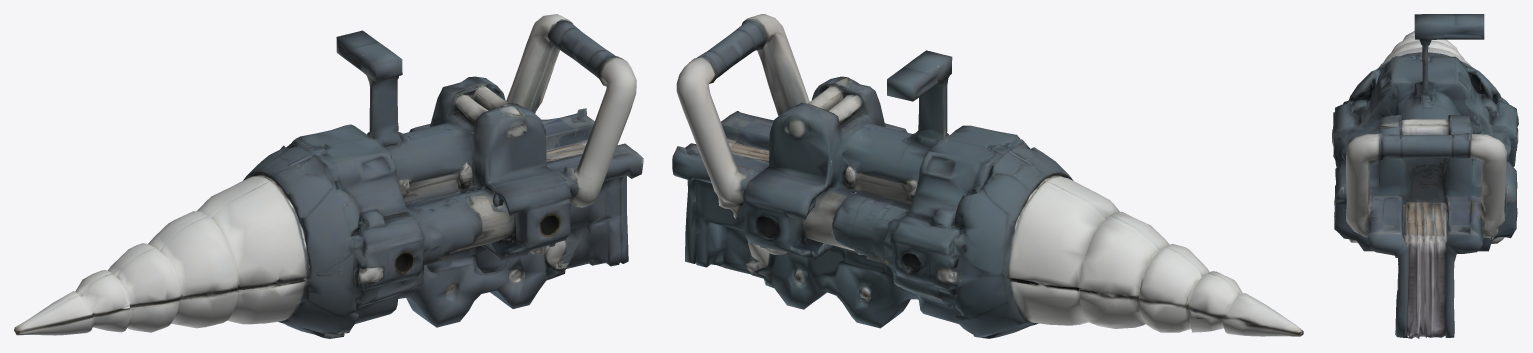
File: Mechanical_Drill_Atta_0801074050_texture.fbx
The picture shows the model from 3 angles, left to right: view 1: azimuth 30°, elevation 25°; view 2: azimuth 150°, elevation 25°; view 3: azimuth 270°, elevation 25°; orthographic projection. The views are drawn at different scales.
Visible parts, largest first — view 1: input; view 2: input; view 3: input.
Boxes of the visible parts, bbox=[...] form: input: bbox=[14, 14, 643, 338]; input: bbox=[672, 14, 1303, 338]; input: bbox=[1332, 14, 1518, 338].
Bounding box in the file's own units: 200 × 86.57 × 61.21.
1 material, 1 textured.
